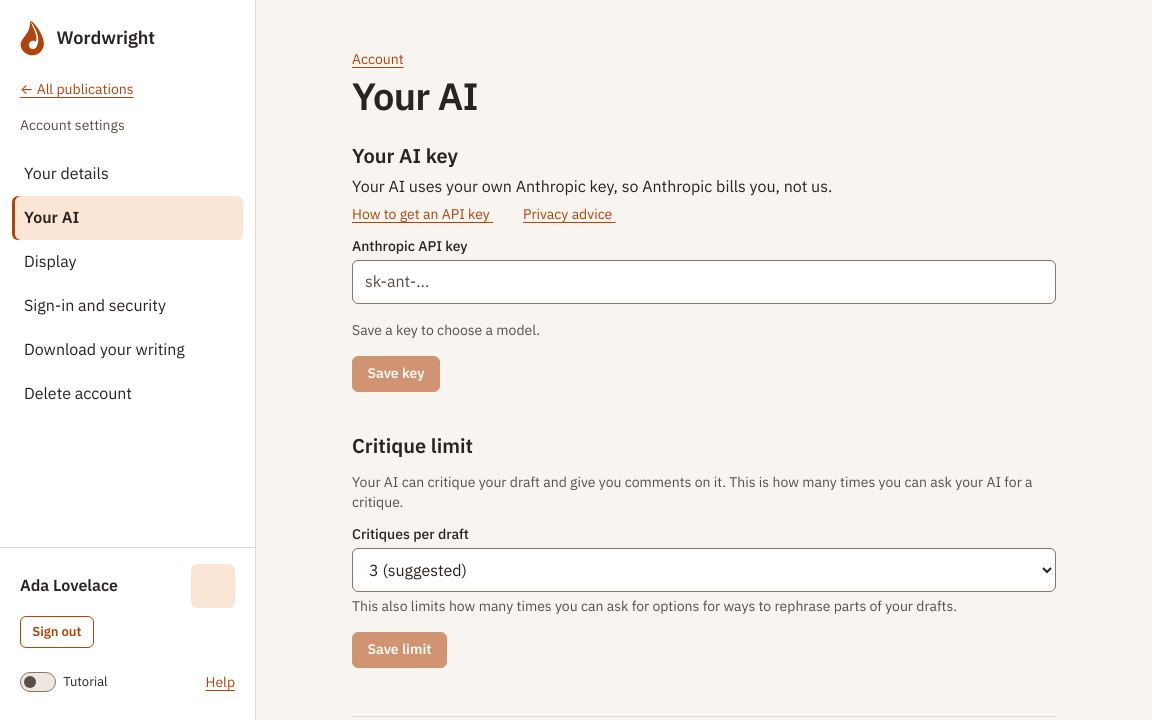
Test: AccountView: AI assistant key › saves the key, then shows only a hint; the model is chosen once there is a key
Expected: the button "Save key" is disabled, x1=352 y1=356 x2=440 y2=392
Expected: the text "Save a key to choose a model." is shown, x1=352 y1=321 x2=540 y2=339
Type "  sk-ant-secret-1234567890  " into the password field labelled "Anthropic API key" at {"x": 704, "y": 282}, box x1=352 y1=260 x2=1056 y2=304
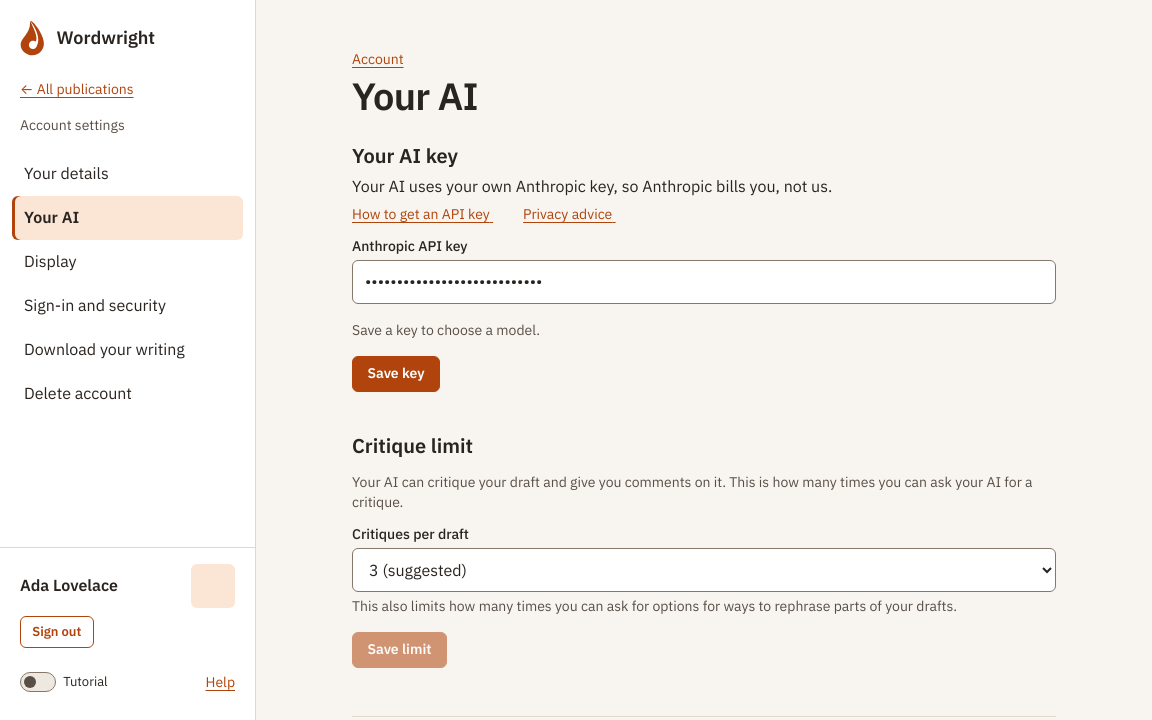
Expected: the button "Save key" is enabled
Click the button "Save key" at {"x": 396, "y": 374}, box x1=352 y1=356 x2=440 y2=392
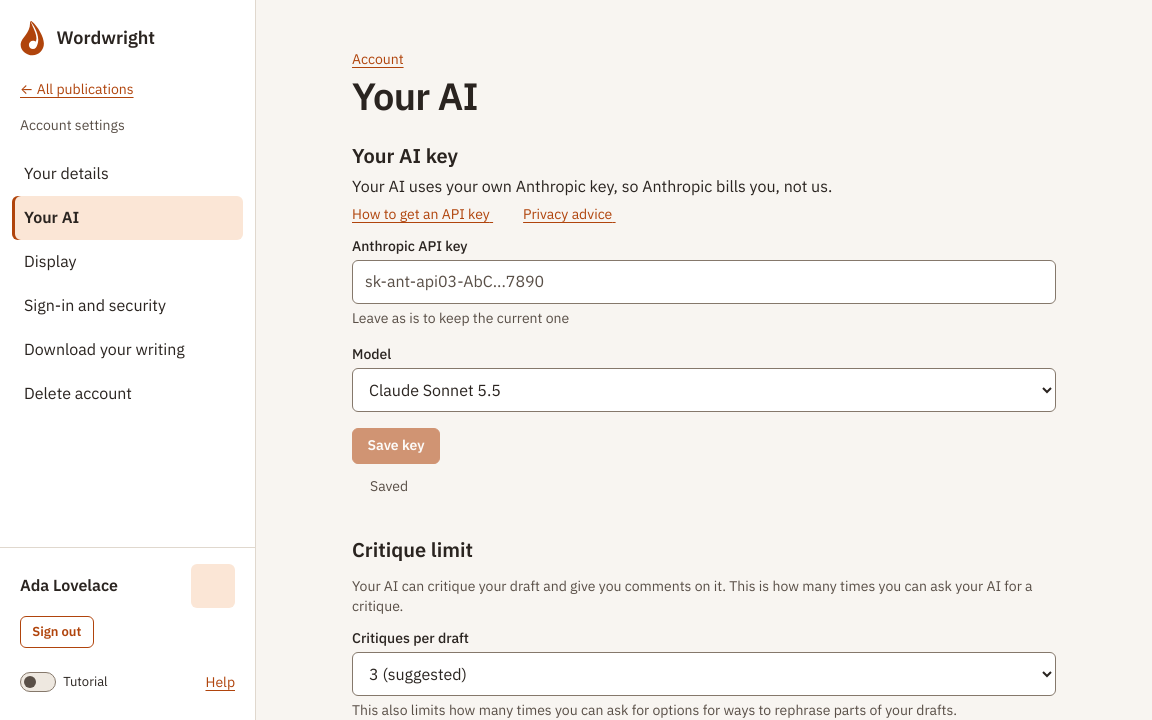
Expected: the password field with placeholder "sk-ant-api03-AbC...7890" is shown, x1=352 y1=260 x2=1056 y2=304
Expected: the text "Leave as is to keep the current one" is shown, x1=352 y1=309 x2=569 y2=327
Expected: the dropdown labelled "Model" is shown, x1=352 y1=368 x2=1056 y2=412
